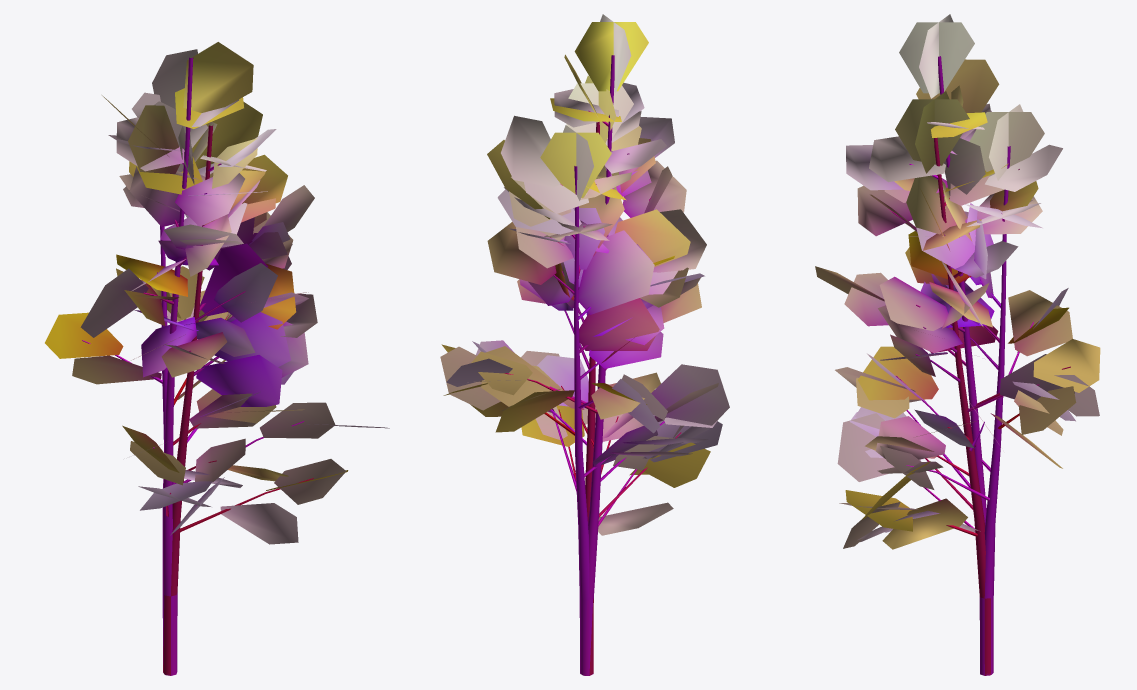
Rendered from sapling_birch.glb.
3 renders of one model, left to right at view 1: azimuth 30°, elevation 25°; view 2: azimuth 150°, elevation 25°; view 3: azimuth 270°, elevation 25°, orthographic. The views are drawn at different scales.
Parts seen in each view (by area): view 1: sapling_birch_v0_lod0, sapling_birch_v2_lod0, sapling_birch_v1_lod0; view 2: sapling_birch_v1_lod0, sapling_birch_v0_lod0, sapling_birch_v2_lod0; view 3: sapling_birch_v1_lod0, sapling_birch_v0_lod0, sapling_birch_v2_lod0.
Boxes of the visible parts, box(x1,y1,x2,y2) form: sapling_birch_v0_lod0: box(80, 42, 304, 675); sapling_birch_v2_lod0: box(130, 101, 348, 675); sapling_birch_v1_lod0: box(45, 49, 389, 675); sapling_birch_v1_lod0: box(440, 115, 729, 675); sapling_birch_v0_lod0: box(446, 14, 722, 675); sapling_birch_v2_lod0: box(441, 75, 718, 675); sapling_birch_v1_lod0: box(835, 104, 1076, 675); sapling_birch_v0_lod0: box(815, 14, 1100, 675); sapling_birch_v2_lod0: box(839, 91, 1075, 675).
Size of what is drawn, in the model's own units: 2.26 by 5.03 by 2.26.
